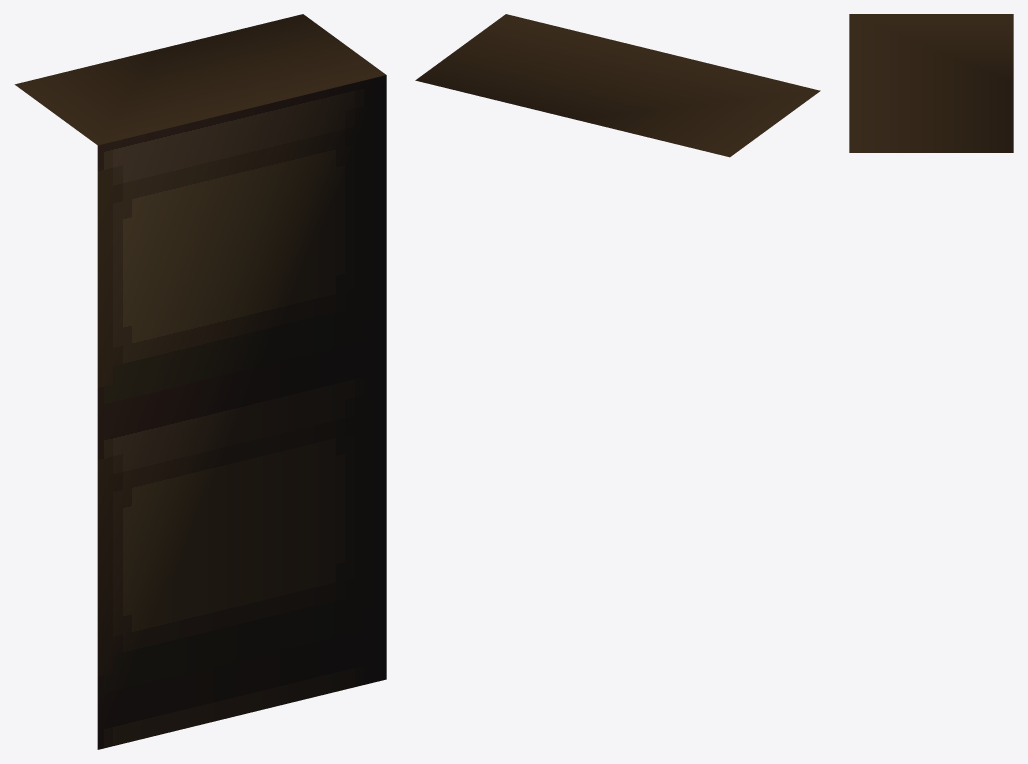
3 renders of one model, left to right at view 1: azimuth 30°, elevation 25°; view 2: azimuth 150°, elevation 25°; view 3: azimuth 270°, elevation 25°, orthographic. The views are drawn at different scales.
Bounding box in the file's own units: 1 × 2 × 0.5.
Materials: 1 (1 with a texture image).
